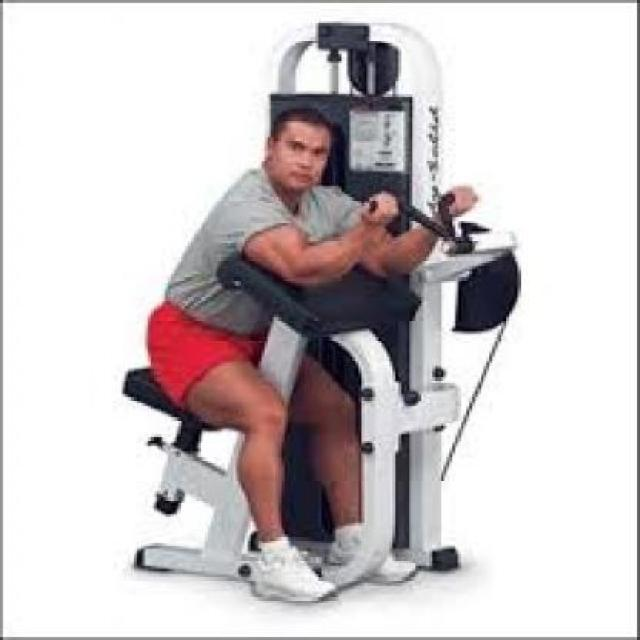arm curl machine: (125, 20, 524, 580)
